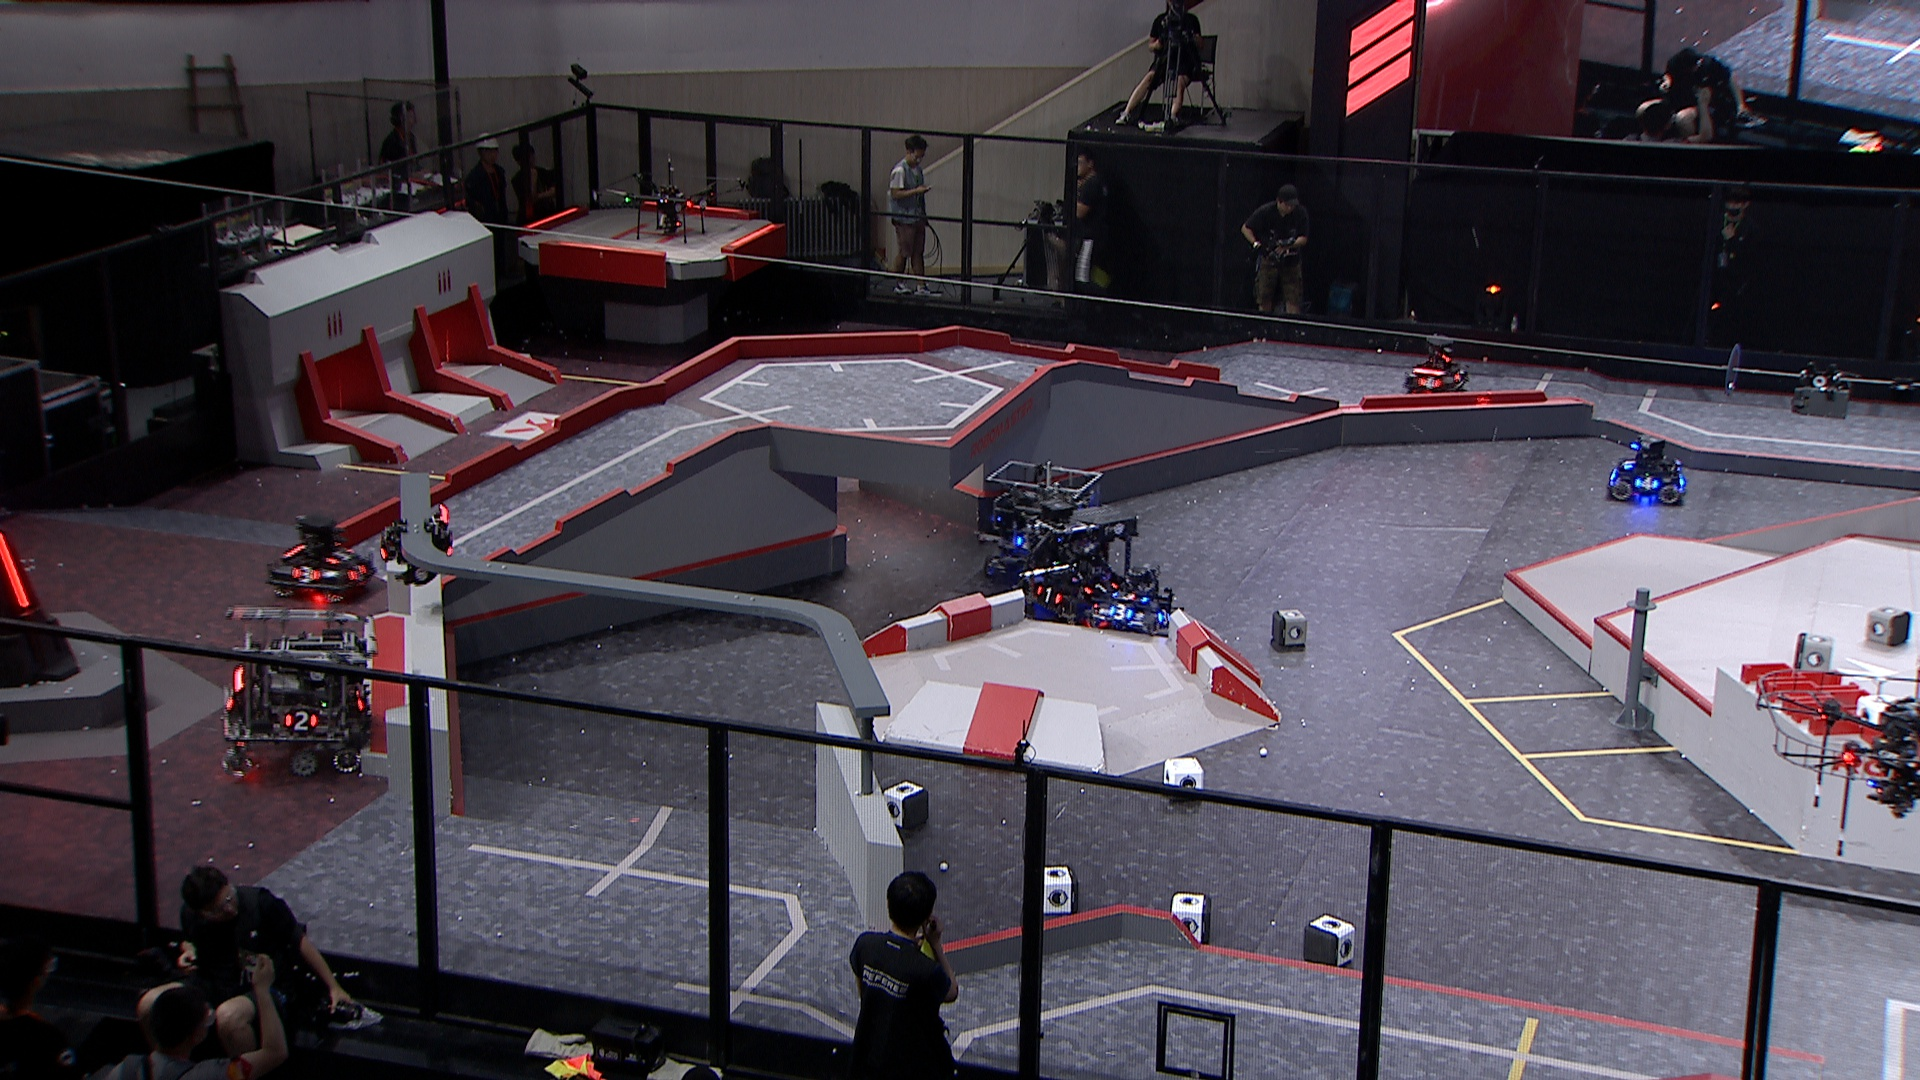armor: (285, 712, 315, 732), (327, 543, 353, 564), (291, 564, 318, 585), (1038, 585, 1062, 604), (1106, 605, 1131, 622), (1087, 582, 1116, 595), (1633, 475, 1656, 491), (347, 562, 367, 580), (220, 684, 235, 709), (1416, 377, 1439, 392), (1449, 371, 1468, 384), (1618, 458, 1634, 472), (1011, 531, 1027, 546), (1160, 608, 1174, 622)
car: (215, 604, 378, 785), (977, 462, 1105, 593), (1013, 508, 1138, 638), (266, 512, 377, 605), (1095, 560, 1192, 644), (1607, 434, 1691, 509), (1400, 332, 1470, 398)
watcher: (372, 500, 456, 588)
